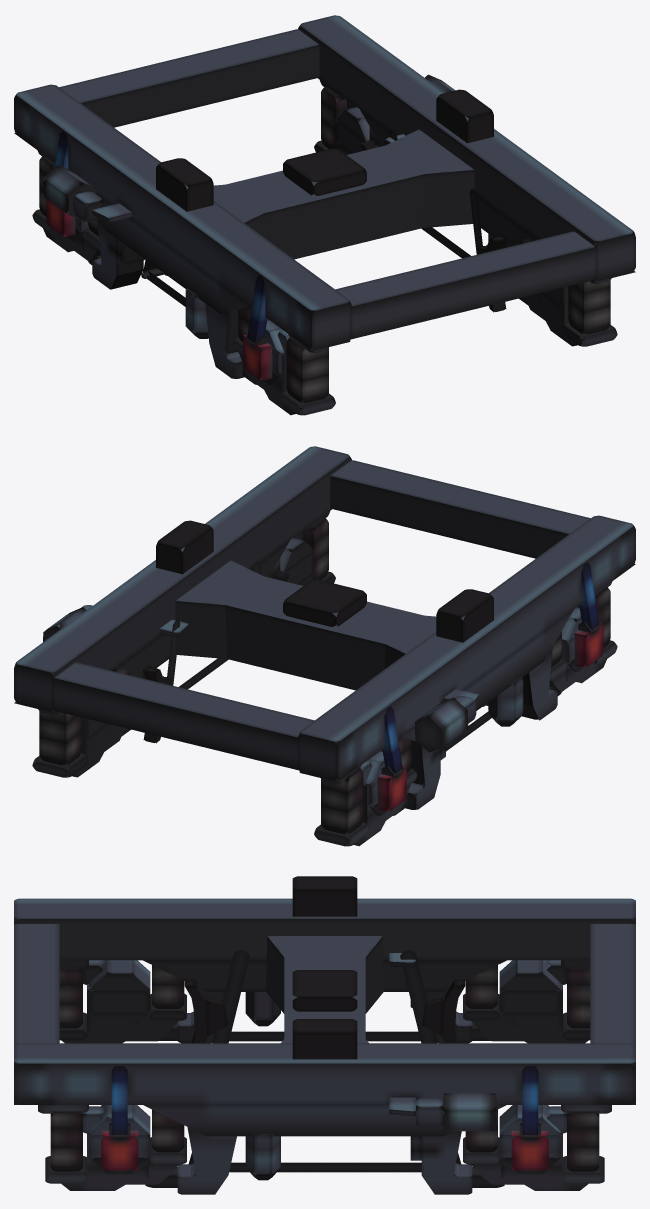
File: jy290_frame.obj
3 renders of one model, top to bottom at view 1: azimuth 30°, elevation 25°; view 2: azimuth 150°, elevation 25°; view 3: azimuth 270°, elevation 25°, orthographic. The views are drawn at different scales.
Visible parts, largest first — view 1: jy290转向架; view 2: jy290转向架; view 3: jy290转向架.
Boxes of the visible parts, x1,y1,x2,y2 form: jy290转向架: (14,15,635,415); jy290转向架: (14,446,635,846); jy290转向架: (14,876,635,1194).
Bounding box in the file's own units: 2.81 × 1.02 × 3.62.
